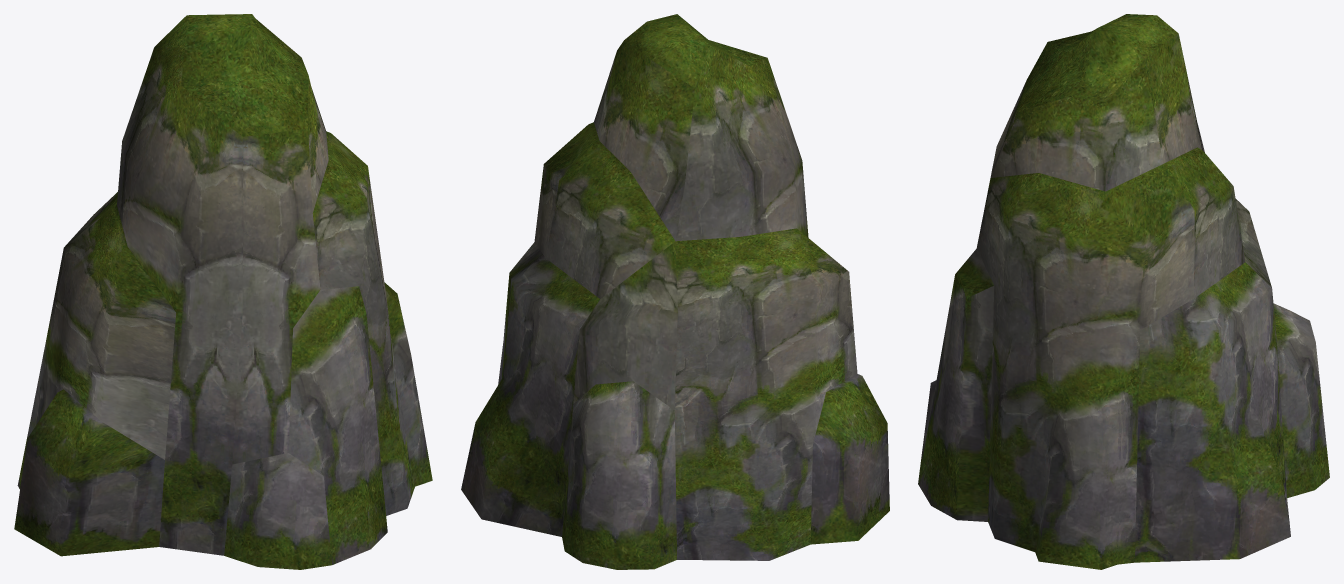
File: Yland1_st_01 Yland1.FBX
3 views of the same model, side by side, from view 1: azimuth 30°, elevation 25°; view 2: azimuth 150°, elevation 25°; view 3: azimuth 270°, elevation 25° (orthographic). The views are drawn at different scales.
Parts seen in each view (by area): view 1: Yland1_st_01 Yland1; view 2: Yland1_st_01 Yland1; view 3: Yland1_st_01 Yland1.
Part boxes in pixels (bbox=[...]): Yland1_st_01 Yland1: bbox=[14, 14, 432, 569]; Yland1_st_01 Yland1: bbox=[461, 14, 889, 569]; Yland1_st_01 Yland1: bbox=[918, 14, 1329, 569].
Size of the model in its own units: 19.64 by 23.09 by 18.75.
